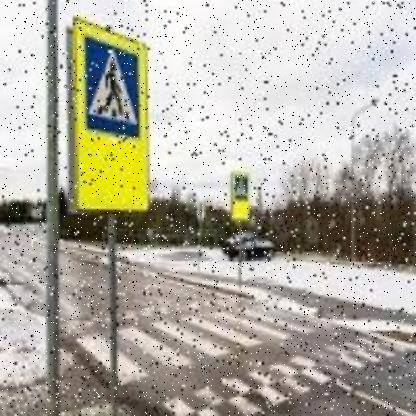Pedestrian Crossing: (80, 38, 142, 138), (234, 172, 251, 206)
